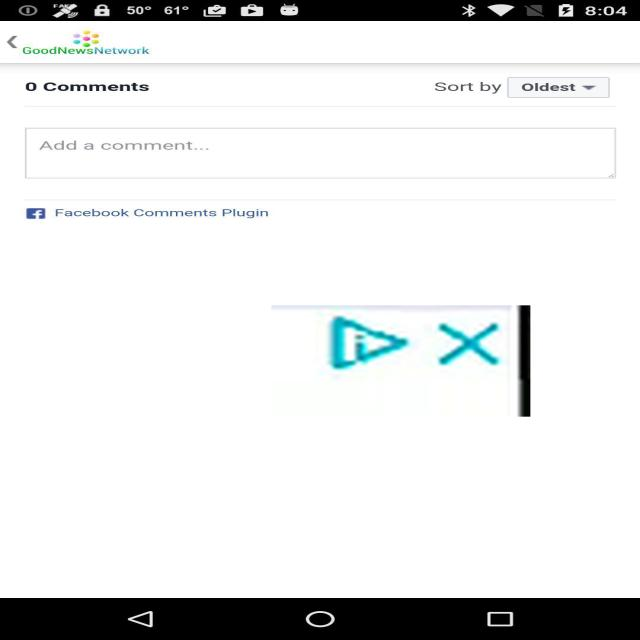sneaking: (272, 305, 530, 417)
